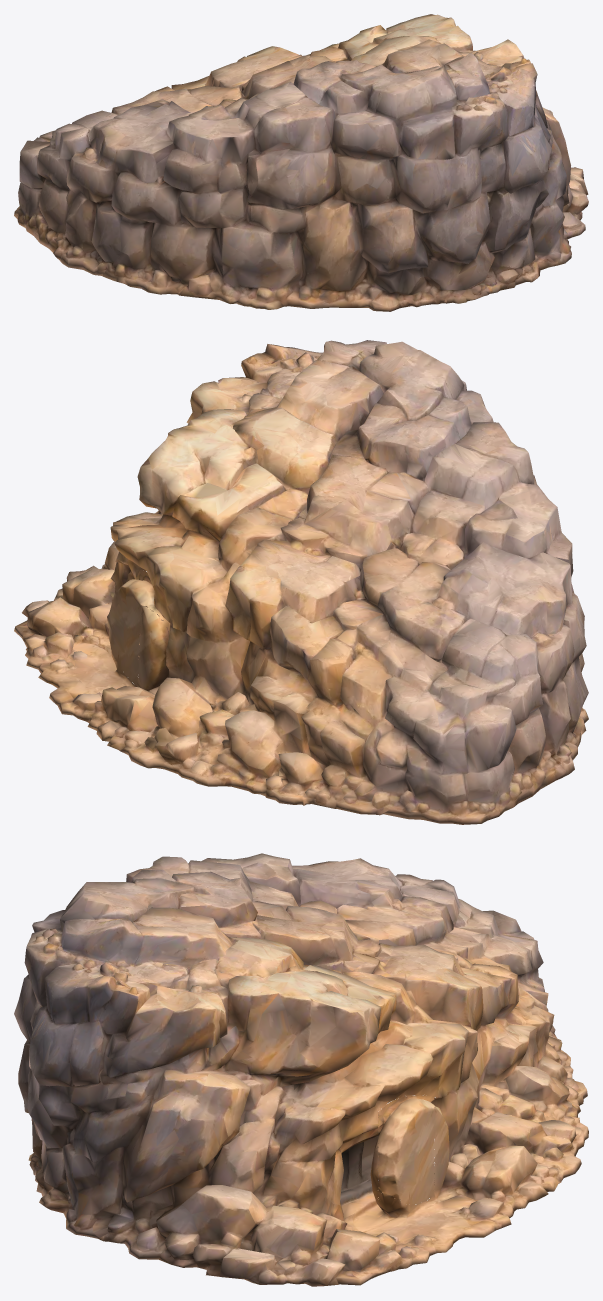
File: tumulo_lazaro.glb
The picture shows the model from 3 angles, top to bottom: view 1: azimuth 30°, elevation 25°; view 2: azimuth 150°, elevation 25°; view 3: azimuth 270°, elevation 25°; orthographic projection. The views are drawn at different scales.
Visible parts, largest first — view 1: Tumulo_Lazaro; view 2: Tumulo_Lazaro, Tumulo_Pedra; view 3: Tumulo_Lazaro, Tumulo_Pedra.
Part boxes in pixels (bbox=[...]): Tumulo_Lazaro: bbox=[14, 14, 588, 311]; Tumulo_Lazaro: bbox=[14, 340, 588, 824]; Tumulo_Pedra: bbox=[107, 568, 169, 685]; Tumulo_Lazaro: bbox=[14, 853, 588, 1286]; Tumulo_Pedra: bbox=[377, 1094, 435, 1205].
Bounding box in the file's own units: 12 × 5.06 × 10.07.
Materials: 1 (1 with a texture image).
